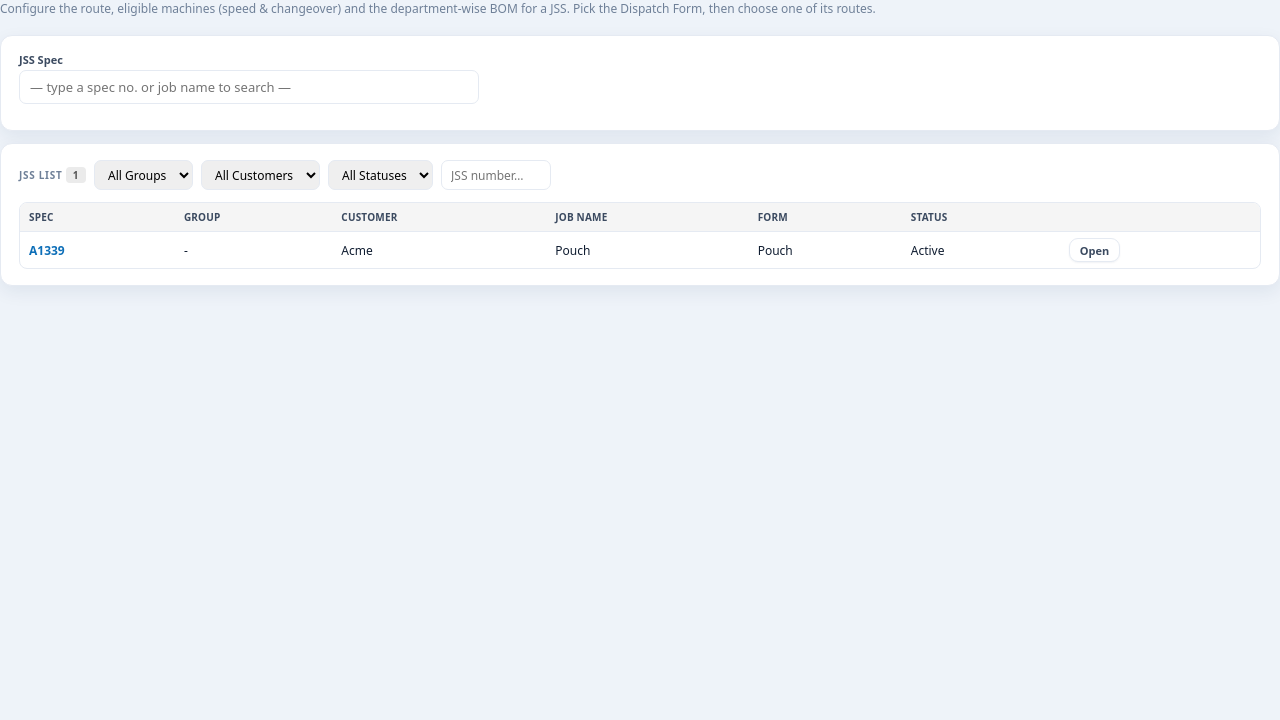
Test: QC BOM row — Material Type / Sub-Group / Specialty (§2) › shows the saved line as the item really is, not as "Any"
Type "A1339" into the field named "JSS Spec" at (249, 87), box [19,70,479,104]
(page scrolled)
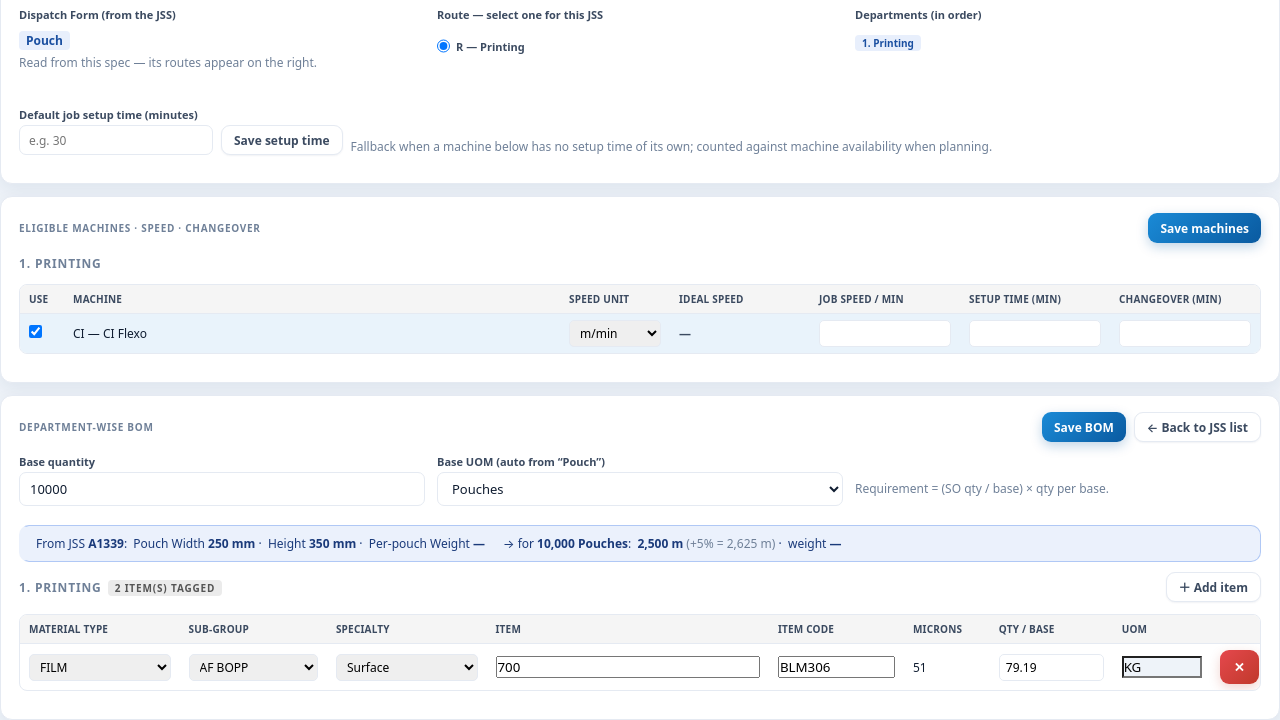
Expected: the dropdown named "Material type for Printing row" shows "FILM", [29,654,171,680]
Expected: the dropdown named "Sub group for Printing row" shows "AF BOPP", [189,654,318,680]
Expected: the dropdown named "Specialty for Printing row" shows "Surface", [336,654,478,680]
